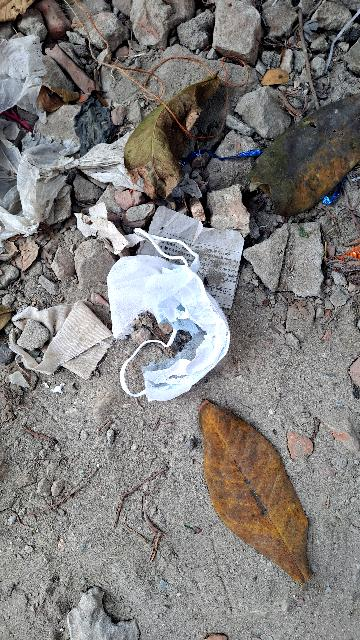mask: (72, 242, 241, 398)
